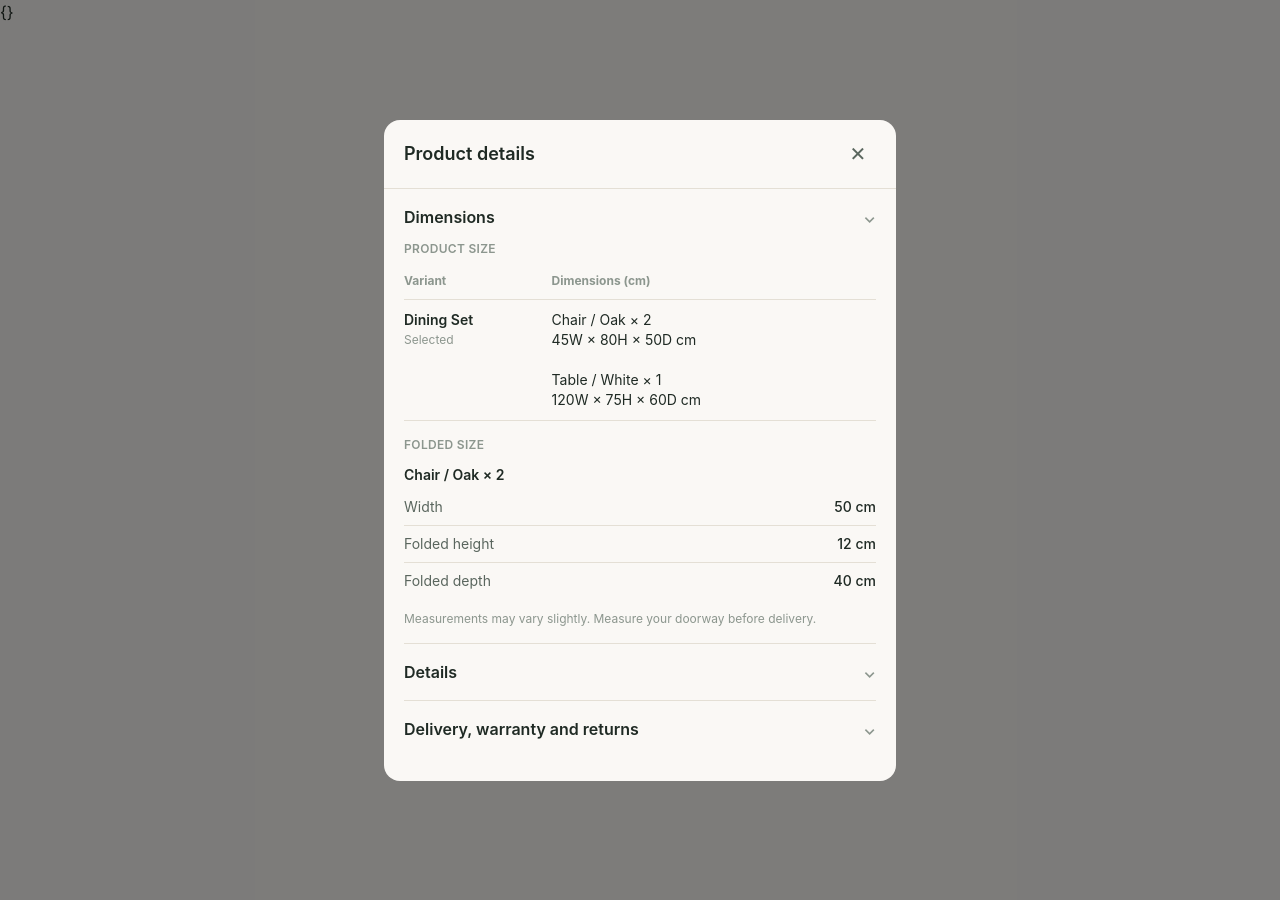
Test case: ProductDetailsModal › keeps Bundle facts component-specific without the parent product's sizes
Expected: the heading "Folded size" is shown, [404,436,484,452]
Expected: the element that starts with "Chair / Oak × 2" is shown, [404,466,504,482]
Click the heading "Details ⌄" at (431, 672), box [404,660,876,684]
(page scrolled)
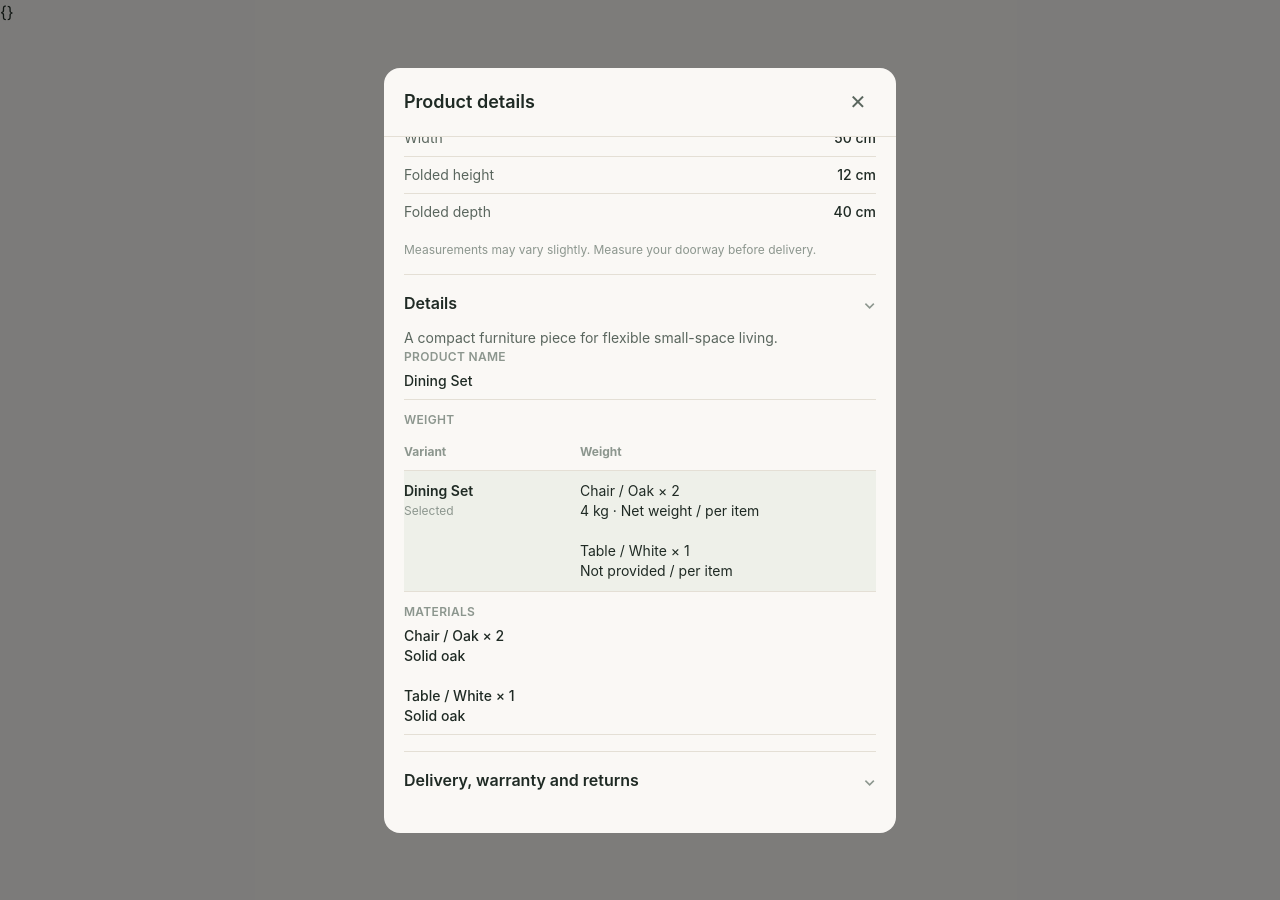
Expected: the element showing "Chair / Oak × 2 Solid oak Table / White × 1 Solid oak" is shown, [404,626,876,735]
Expected: the cell shows "4 kg · Net weight / per item", [580,482,759,579]
Expected: the cell shows "Not provided", [580,482,759,579]
